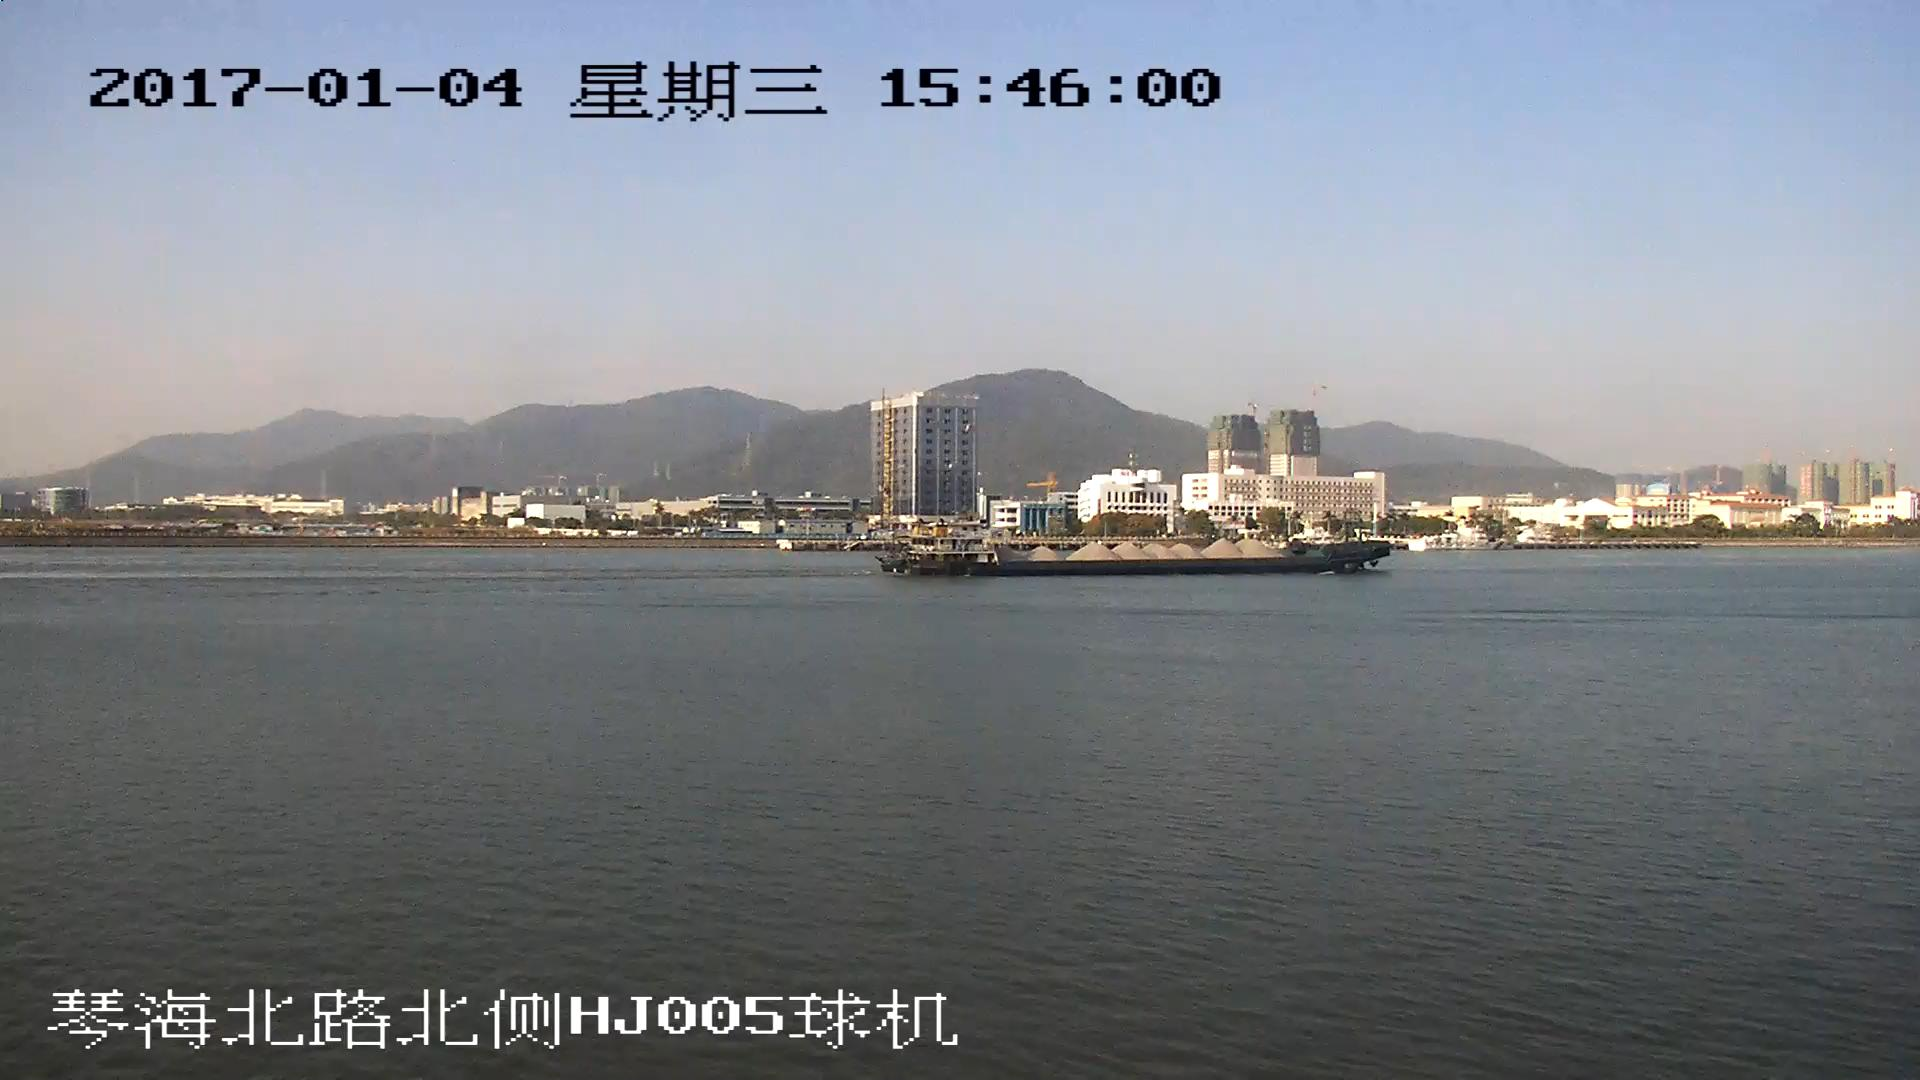ore carrier: (879, 515, 1392, 579)
